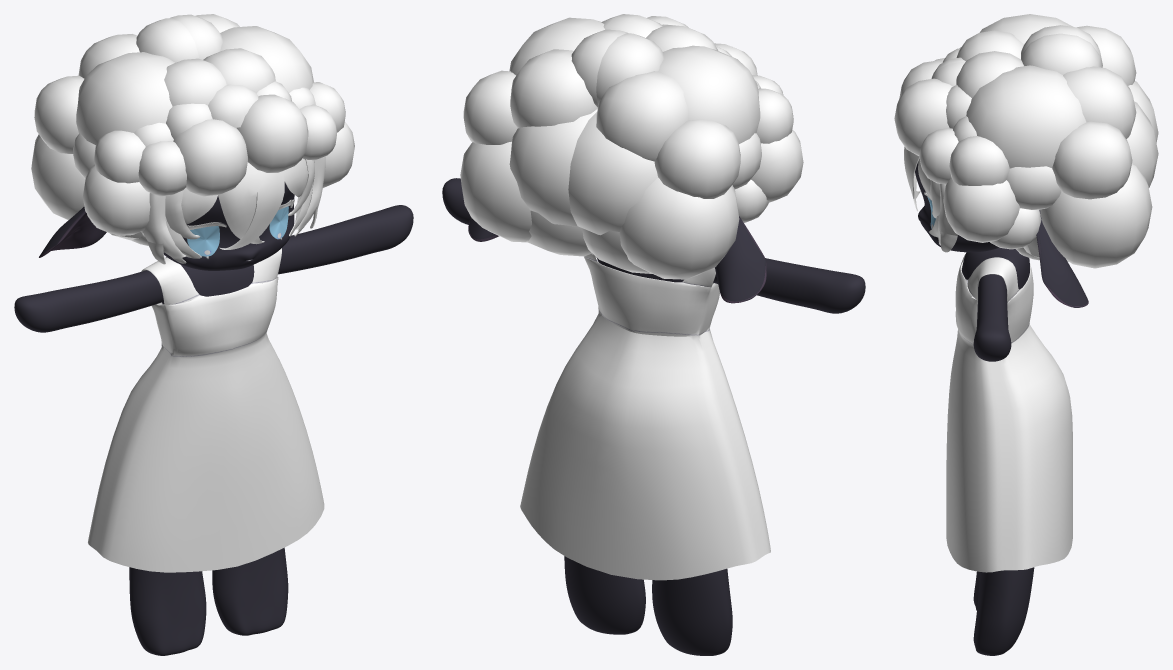
The model's file is Billysumrong.fbx.
3 views of the same model, side by side, from view 1: azimuth 30°, elevation 25°; view 2: azimuth 150°, elevation 25°; view 3: azimuth 270°, elevation 25° (orthographic). The views are drawn at different scales.
Visible parts, largest first — view 1: hair, clothes, body.001, face; view 2: hair, clothes, body.001, face; view 3: hair, clothes, body.001, face.
Boxes of the visible parts, left/top/right/bottom form: hair: left=31, top=14, right=354, bottom=264; clothes: left=88, top=248, right=324, bottom=572; body.001: left=14, top=205, right=413, bottom=655; face: left=39, top=182, right=294, bottom=270; hair: left=460, top=14, right=803, bottom=279; clothes: left=520, top=254, right=770, bottom=580; body.001: left=442, top=178, right=865, bottom=655; face: left=468, top=216, right=766, bottom=303; hair: left=894, top=14, right=1158, bottom=268; clothes: left=946, top=254, right=1072, bottom=572; body.001: left=961, top=247, right=1034, bottom=655; face: left=915, top=161, right=1088, bottom=307.
Bounding box in the file's own units: 408 × 588 × 237.
4 materials, 4 textured.
